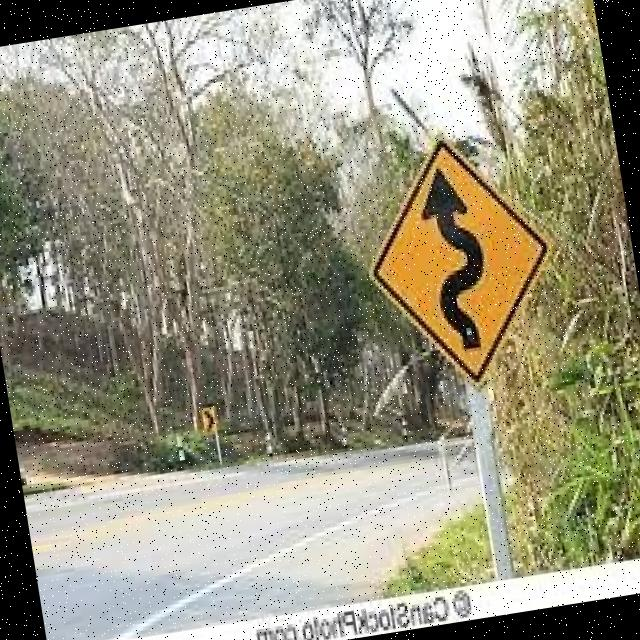left_sharp_curve: (346, 117, 571, 400)
